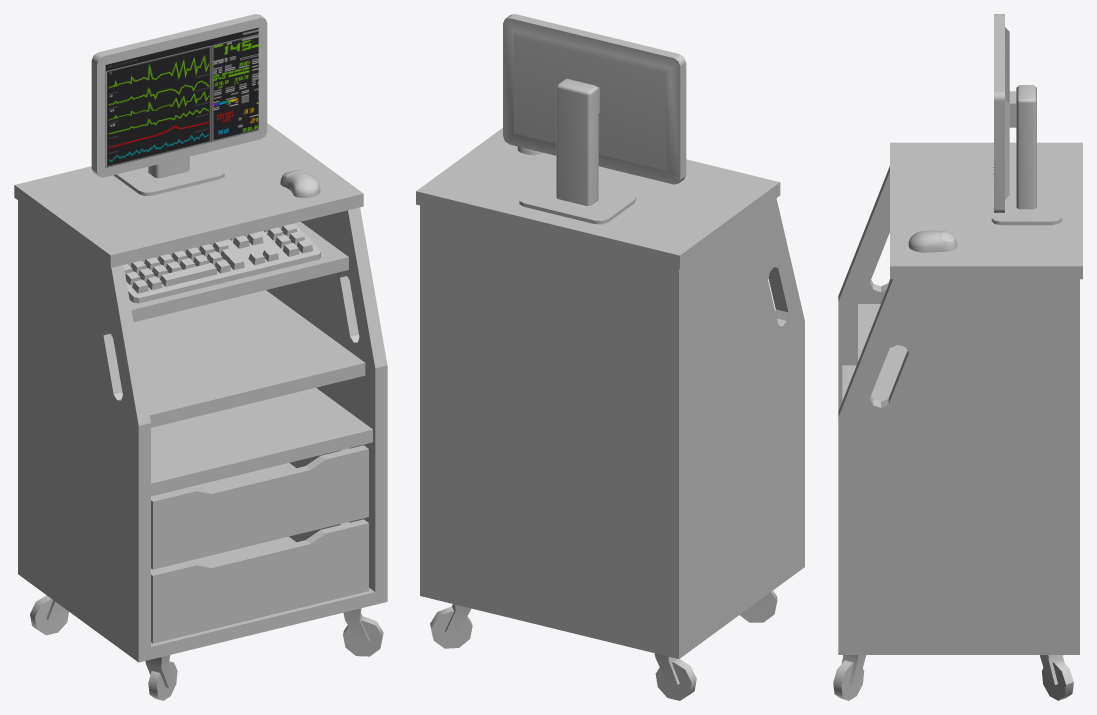
Rendered from Encephalograph_01.fbx.
3 views of the same model, side by side, from view 1: azimuth 30°, elevation 25°; view 2: azimuth 150°, elevation 25°; view 3: azimuth 270°, elevation 25° (orthographic). The views are drawn at different scales.
Visible parts, largest first — view 1: Encephalograph_01; view 2: Encephalograph_01; view 3: Encephalograph_01.
Boxes of the visible parts, left/top/right/bottom form: Encephalograph_01: left=14, top=14, right=387, bottom=700; Encephalograph_01: left=416, top=14, right=804, bottom=700; Encephalograph_01: left=833, top=14, right=1082, bottom=700.
Size of the model in its own units: 51.33 by 43.77 by 114.
